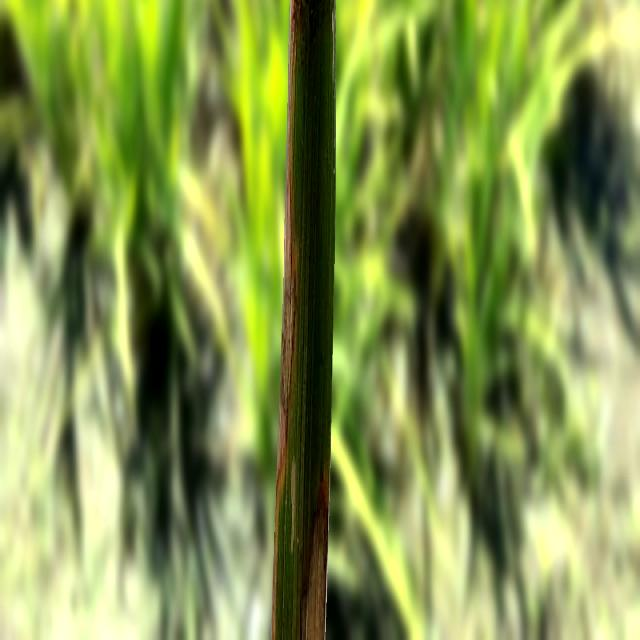BLB: (271, 0, 304, 636)
